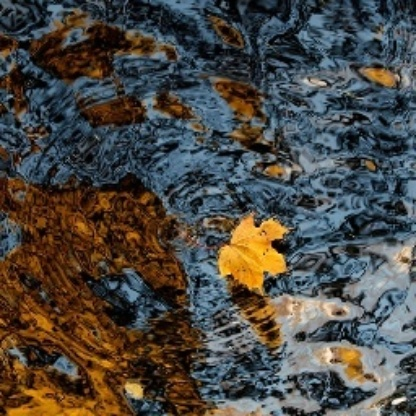leaf: (209, 212, 295, 286)
